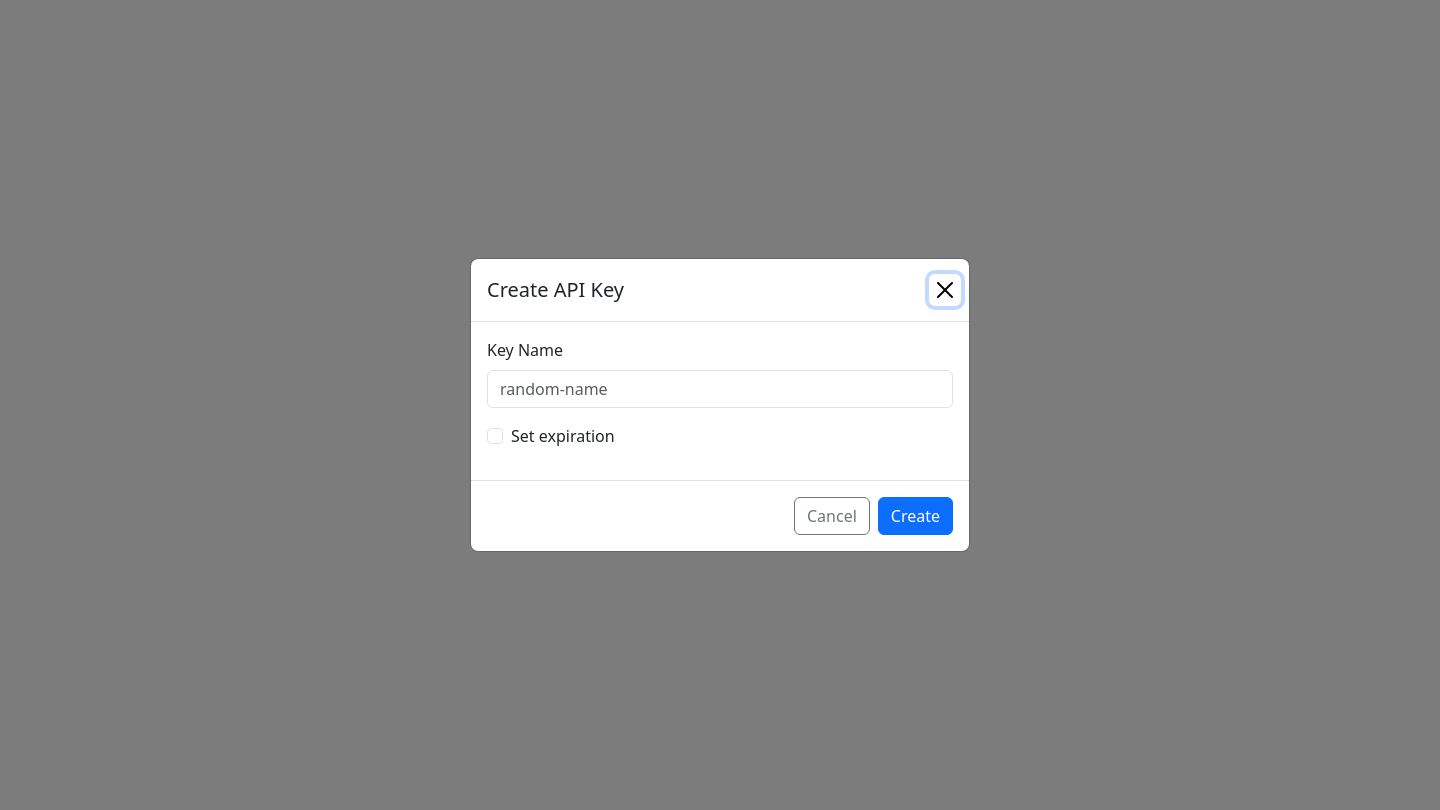
CreateAPIKeyModal › shows error alert when creation fails
Click the button "Create".
click(915, 516)  # box x1=878 y1=497 x2=953 y2=535
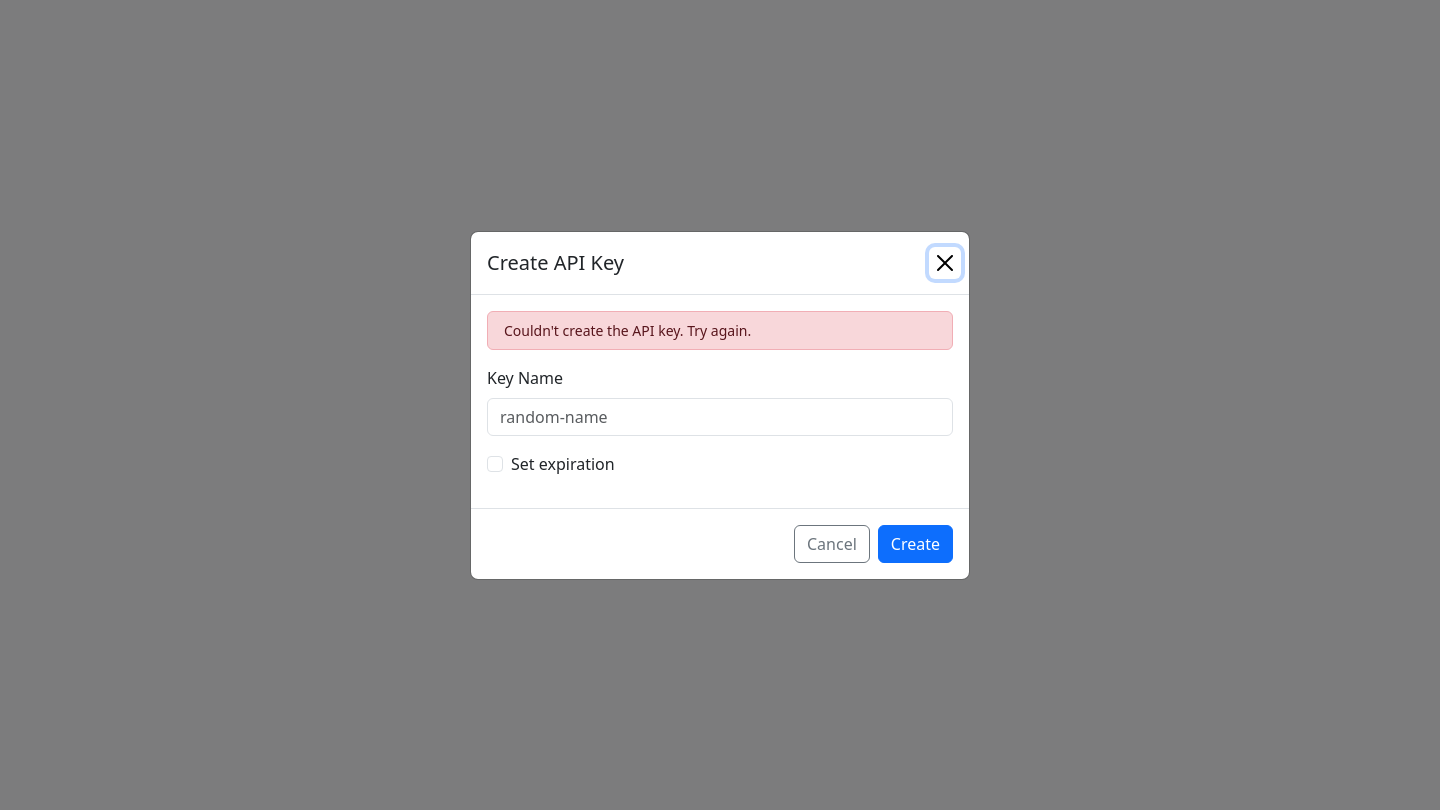
Check: the message reads "Couldn't create the API key. Try again.", box x1=504 y1=320 x2=751 y2=340
